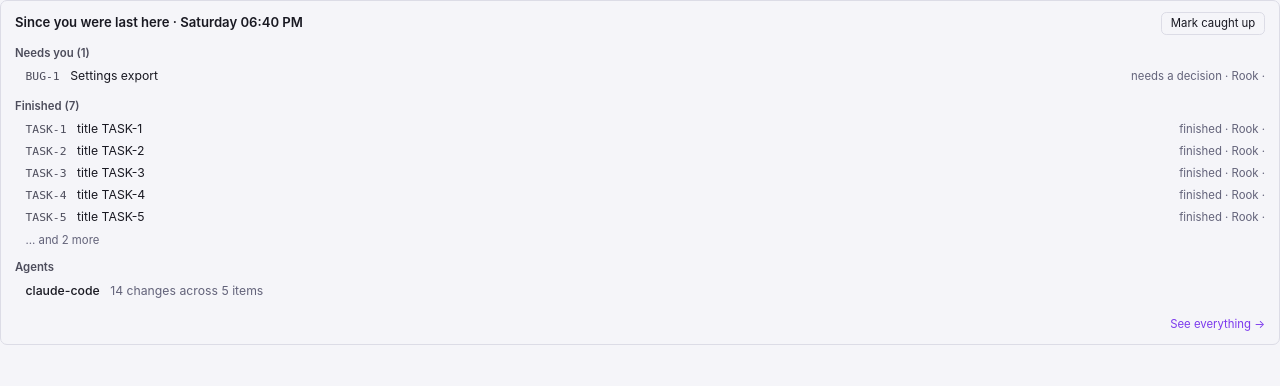
Test: CatchUpCard (TASK-3615) › a mark that lands but whose refetch fails keeps the card and says so (PR B r1)
Click the button with test id "catch-up-mark".
click(1213, 23)  # box [1161, 12, 1265, 34]
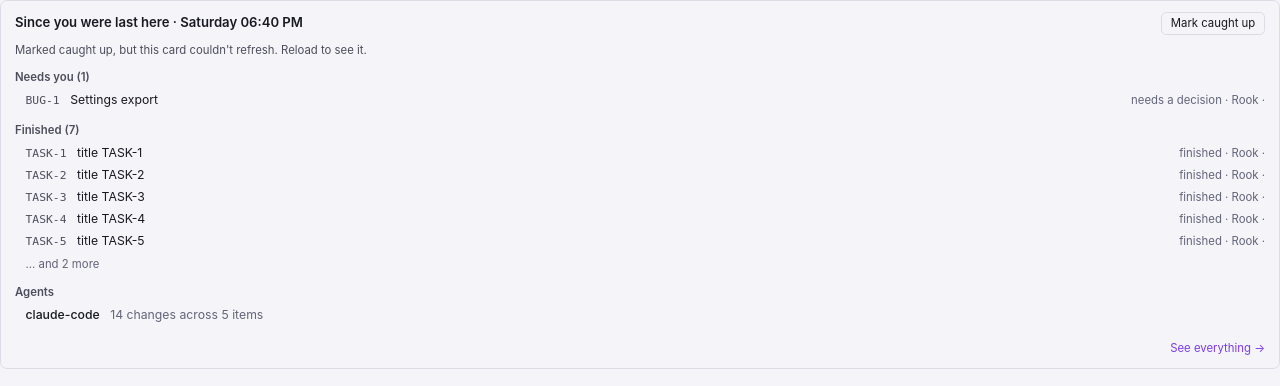
Expected: the element with test id "catch-up-section-finished" is shown, [15, 122, 1265, 273]
Expected: the message with test id "catch-up-refresh-error" shows "Marked caught up", [15, 42, 367, 56]
